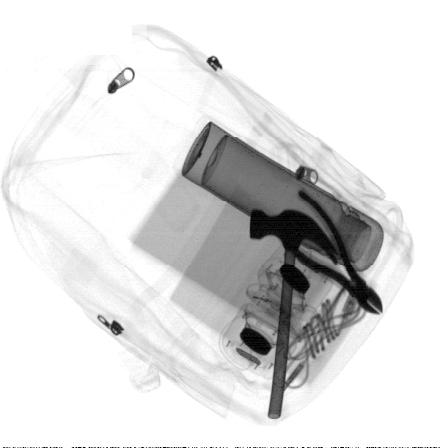Hammer: (250, 209, 338, 420)
Pliers: (290, 190, 383, 315)
